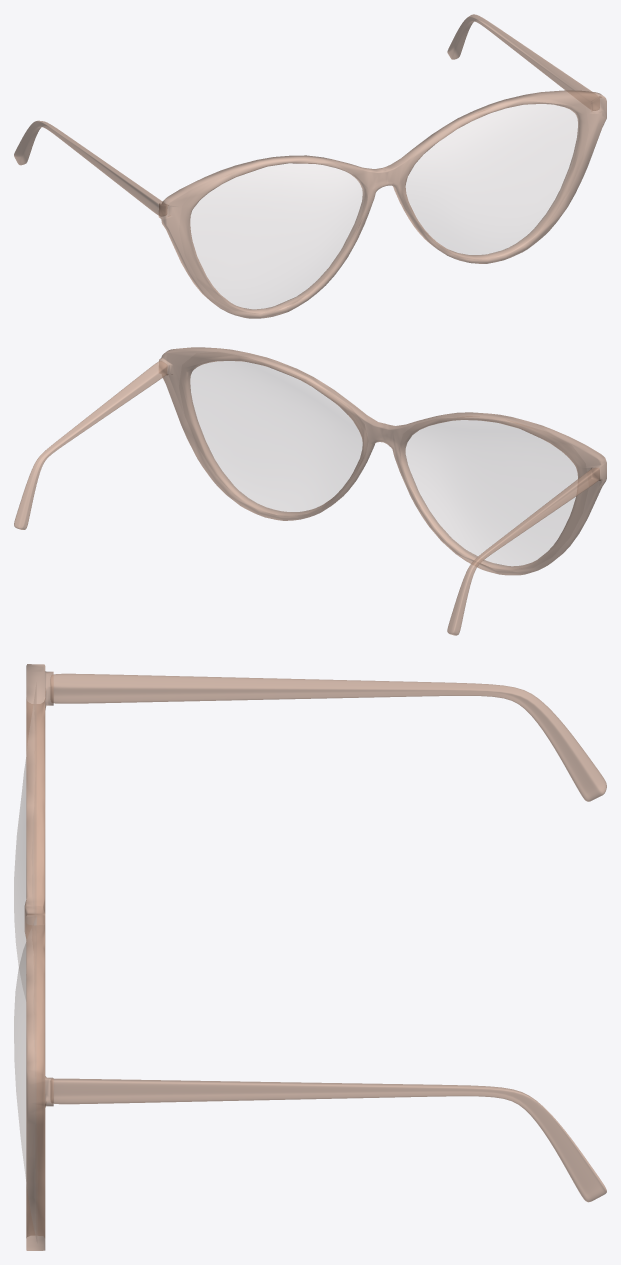
Rendered from frame-005-translucent-beige.glb.
The picture shows the model from 3 angles, top to bottom: view 1: azimuth 30°, elevation 25°; view 2: azimuth 150°, elevation 25°; view 3: azimuth 270°, elevation 25°; orthographic projection. The views are drawn at different scales.
Parts seen in each view (by area): view 1: lenses, frame_front, temple_left, temple_right; view 2: lenses, frame_front, temple_left, temple_right; view 3: temple_right, frame_front, temple_left, lenses.
Boxes of the visible parts, x1=… form: lenses: x1=190, y1=104, x2=579, y2=310; frame_front: x1=158, y1=90, x2=606, y2=318; temple_left: x1=447, y1=14, x2=599, y2=110; temple_right: x1=14, y1=120, x2=167, y2=216; lenses: x1=189, y1=361, x2=577, y2=567; frame_front: x1=159, y1=347, x2=606, y2=575; temple_left: x1=14, y1=361, x2=167, y2=529; temple_right: x1=447, y1=468, x2=599, y2=635; temple_right: x1=50, y1=673, x2=606, y2=801; frame_front: x1=24, y1=664, x2=53, y2=1250; temple_left: x1=50, y1=1078, x2=606, y2=1202; lenses: x1=14, y1=691, x2=36, y2=1238.
Size of the model in its own units: 4.64 by 1.56 by 2.84.
